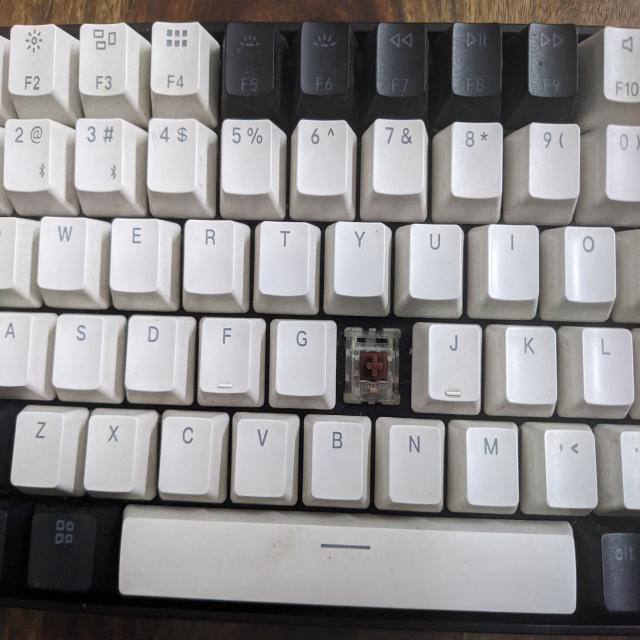C: (342, 321, 409, 412)
